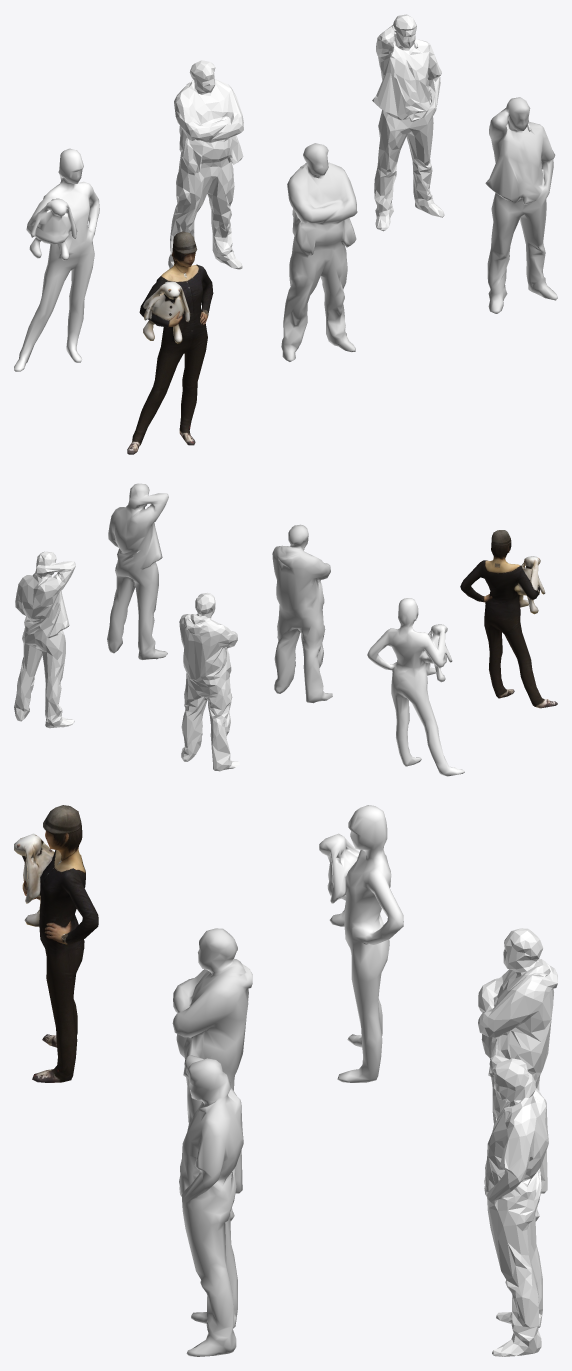
Rendered from people-static.glb.
3 renders of one model, top to bottom at view 1: azimuth 30°, elevation 25°; view 2: azimuth 150°, elevation 25°; view 3: azimuth 270°, elevation 25°, orthographic. The views are drawn at different scales.
Visible parts, largest first — view 1: 03_person, 03_person.002, 05_person, 05_person.002, 01_person.003, 01_person.001; view 2: 03_person, 03_person.002, 05_person.002, 05_person, 01_person.003, 01_person.001; view 3: 05_person.002, 05_person, 01_person.001, 01_person.003, 03_person.002, 03_person.
Boxes of the visible parts, x1=… form: 03_person: x1=281, y1=143, x2=357, y2=361; 03_person.002: x1=168, y1=60, x2=243, y2=269; 05_person: x1=485, y1=97, x2=557, y2=313; 05_person.002: x1=372, y1=14, x2=444, y2=231; 01_person.003: x1=127, y1=231, x2=213, y2=454; 01_person.001: x1=14, y1=148, x2=99, y2=371; 03_person: x1=272, y1=524, x2=332, y2=703; 03_person.002: x1=179, y1=592, x2=239, y2=771; 05_person.002: x1=14, y1=551, x2=75, y2=728; 05_person: x1=107, y1=483, x2=168, y2=660; 01_person.003: x1=460, y1=530, x2=557, y2=708; 01_person.001: x1=367, y1=598, x2=464, y2=776; 05_person.002: x1=484, y1=1055, x2=548, y2=1356; 05_person: x1=179, y1=1055, x2=243, y2=1356; 01_person.001: x1=319, y1=805, x2=403, y2=1082; 01_person.003: x1=14, y1=805, x2=98, y2=1082; 03_person.002: x1=478, y1=928, x2=557, y2=1221; 03_person: x1=172, y1=928, x2=252, y2=1221.
Bounding box in the file's own units: 248 × 100 × 178.
Materials: 4 (1 with a texture image).
